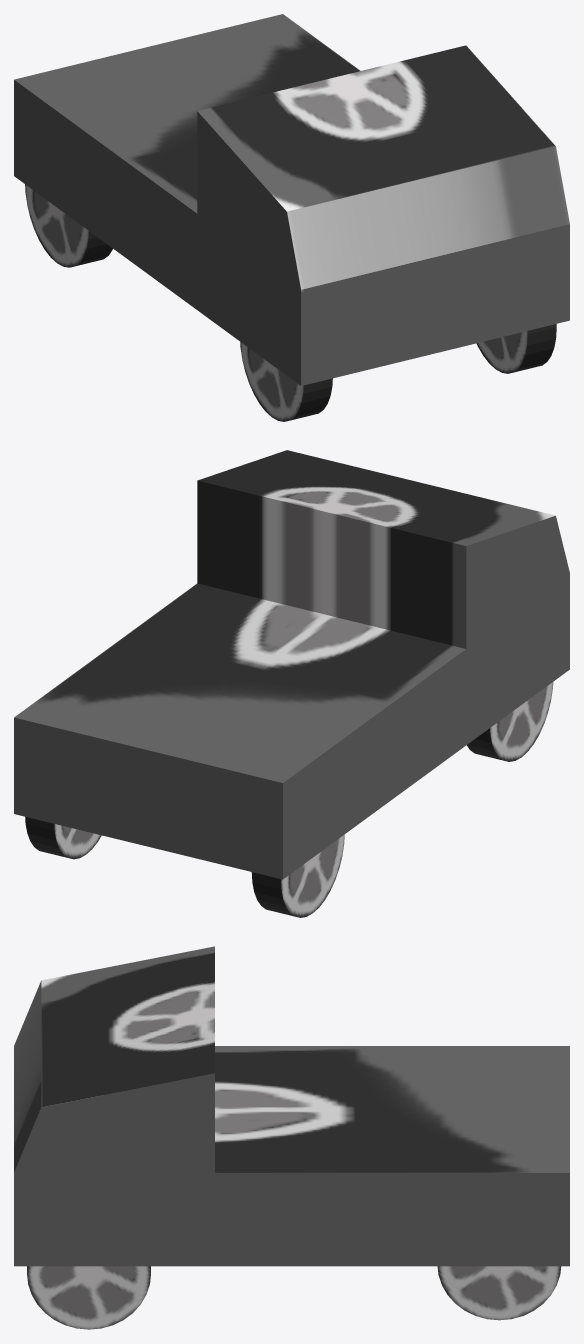
Rendered from ute.dae.
3 views of the same model, one above another, from view 1: azimuth 30°, elevation 25°; view 2: azimuth 150°, elevation 25°; view 3: azimuth 270°, elevation 25° (orthographic). The views are drawn at different scales.
Visible parts, largest first — view 1: Cube, Wheel_FR, Wheel_RR, Wheel_FL; view 2: Cube, Wheel_RR, Wheel_FR, Wheel_RL; view 3: Cube, Wheel_FL, Wheel_RL.
Boxes of the visible parts, x1,y1,x2,y2 form: Cube: (14, 14, 569, 385); Wheel_FR: (240, 342, 332, 421); Wheel_RR: (25, 184, 112, 267); Wheel_FL: (476, 324, 556, 373); Cube: (14, 450, 569, 879); Wheel_RR: (251, 834, 344, 917); Wheel_FR: (467, 682, 553, 761); Wheel_RL: (25, 816, 101, 859); Cube: (14, 946, 569, 1266); Wheel_FL: (27, 1266, 150, 1329); Wheel_RL: (437, 1266, 561, 1320).
Size of the model in its own units: 1.75 by 3.23 by 1.66.
Materials: 2 (2 with a texture image).
